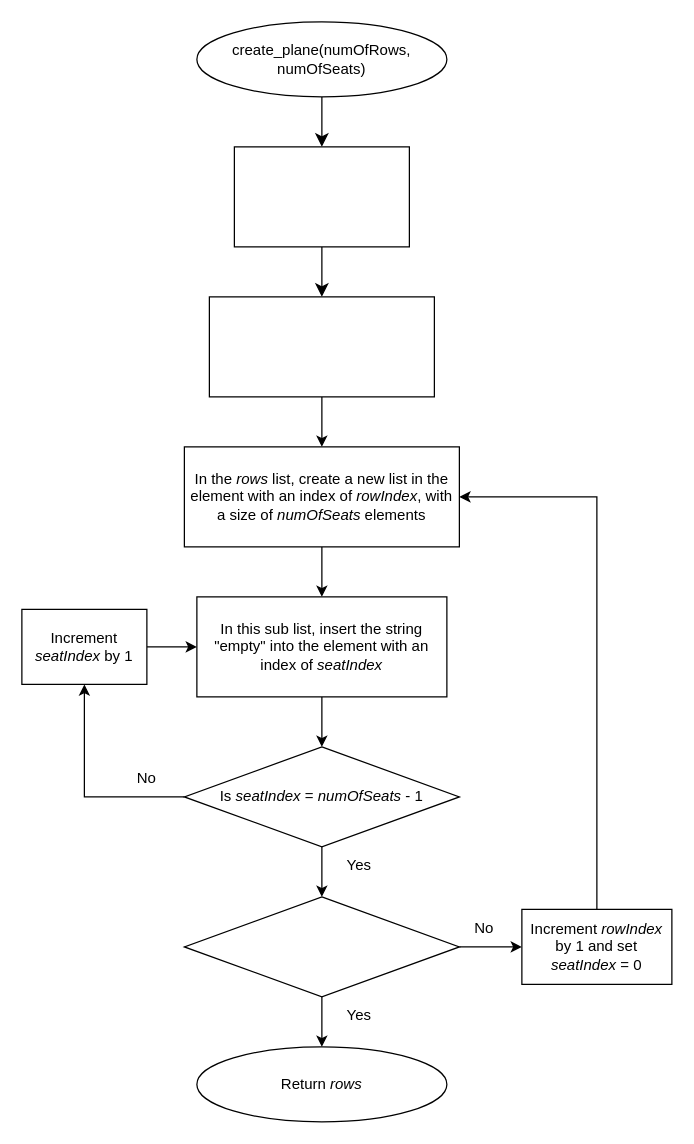
This 694x1144 diagram has some shape labels left out. The shapes that lost their labels are listed below. From the top down, each one's centre as x and y in pixels, then its label:
At pixel 321 196: "Create a list called rows containing numOfRows elements".
At pixel 321 346: "Assign the value 0 to the new variables rowIndex and seatIndex".
At pixel 321 946: "Is rowIndex = numOfRows - 1".
